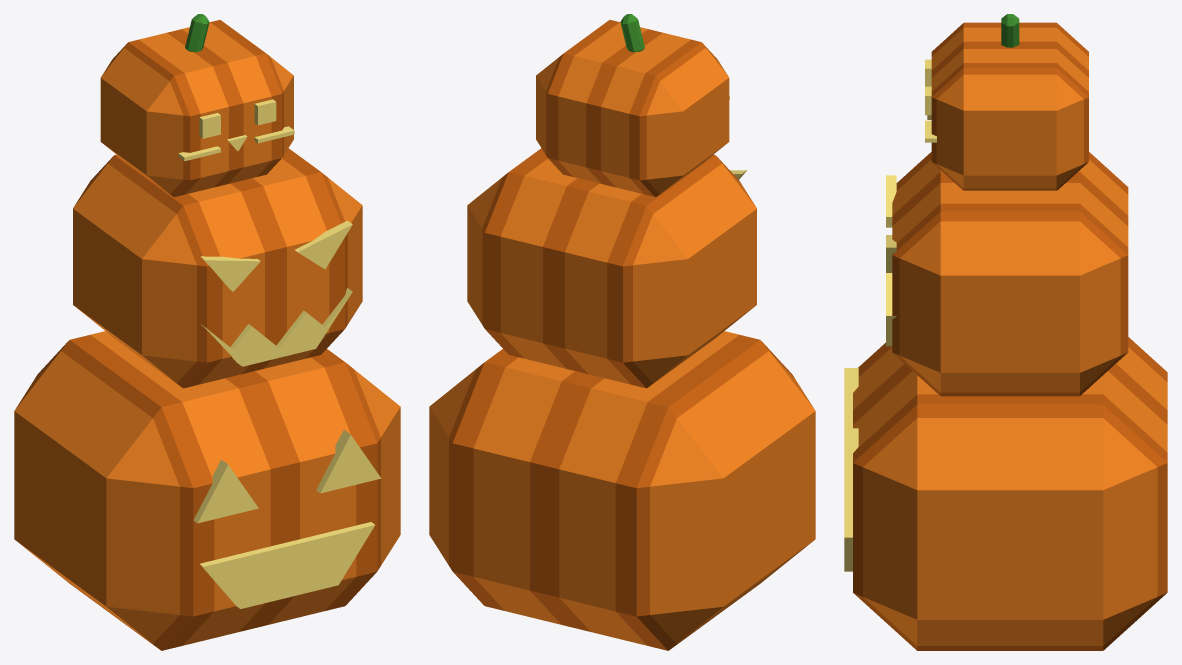
The model's file is PumpkinStack.fbx.
The picture shows the model from 3 angles, left to right: view 1: azimuth 30°, elevation 25°; view 2: azimuth 150°, elevation 25°; view 3: azimuth 270°, elevation 25°; orthographic projection.
Visible parts, largest first — view 1: PumpkinStack; view 2: PumpkinStack; view 3: PumpkinStack.
Boxes of the visible parts, box(x1,y1,x2,y2) form: PumpkinStack: box(14, 14, 400, 650); PumpkinStack: box(429, 14, 815, 650); PumpkinStack: box(844, 14, 1167, 650).
Size of the model in its own units: 2.88 by 5.44 by 2.71.
Materials: 1 (1 with a texture image).
